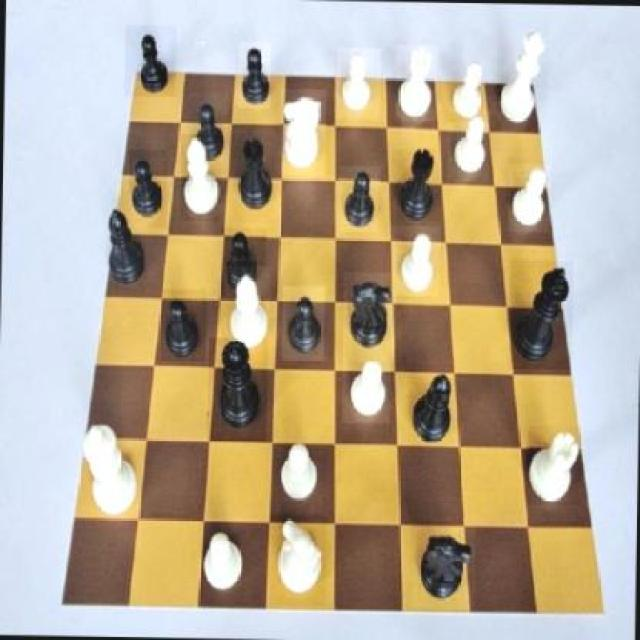bishop: (101, 192, 148, 292), (408, 366, 460, 449)
black-bishop: (509, 260, 574, 371)
black-king: (412, 526, 476, 609), (343, 272, 396, 358)
black-knight: (125, 25, 177, 97), (182, 92, 228, 166), (160, 288, 207, 360), (283, 285, 326, 360), (220, 228, 266, 297), (128, 149, 167, 227), (338, 166, 379, 233), (238, 42, 272, 108)
black-pawn: (208, 337, 268, 441)
black-queen: (232, 134, 276, 223), (391, 147, 442, 220)
black-rook: (224, 265, 270, 357), (180, 134, 220, 221)
white-bishop: (77, 411, 141, 523)
white-king: (269, 512, 327, 606), (278, 89, 326, 176)
white-knight: (197, 526, 245, 606), (272, 442, 325, 512), (391, 226, 440, 297), (342, 357, 391, 424), (336, 48, 380, 120), (448, 110, 490, 182), (508, 164, 550, 233), (445, 56, 487, 122)
white-pawn: (497, 19, 549, 130)
white-queen: (528, 424, 580, 506), (396, 44, 438, 120)
